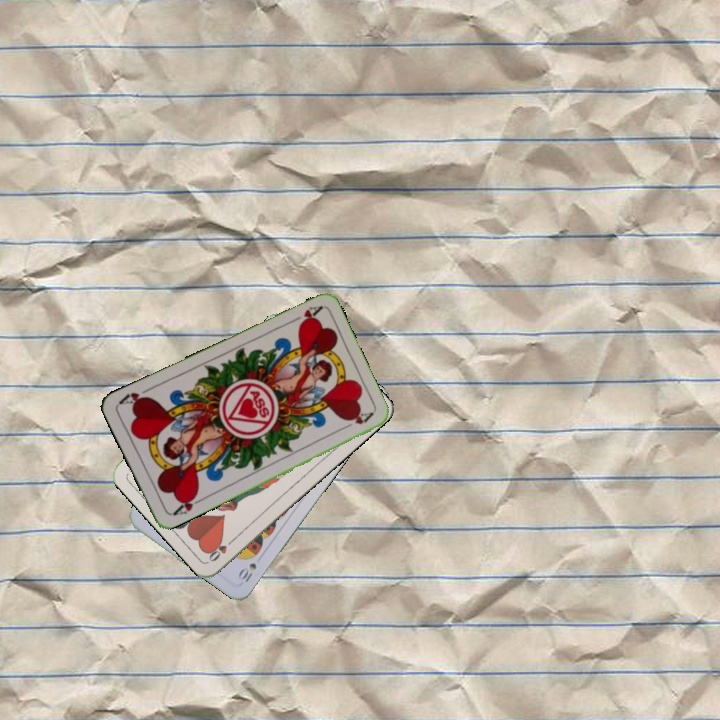HA: (168, 490, 206, 518), (285, 302, 324, 329)
HO: (205, 533, 238, 564)
S10: (234, 559, 259, 585)
